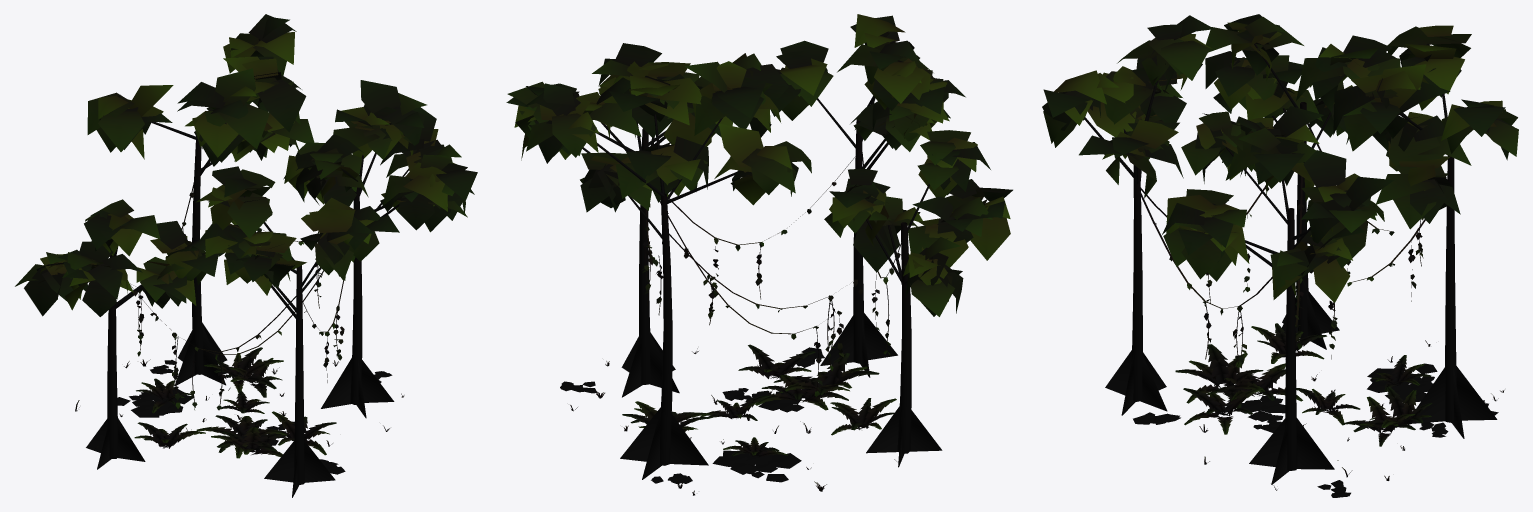
File: patch_vine_hall.glb
3 renders of one model, left to right at view 1: azimuth 30°, elevation 25°; view 2: azimuth 150°, elevation 25°; view 3: azimuth 270°, elevation 25°, orthographic. The views are drawn at different scales.
Parts seen in each view (by area): view 1: patch_vine_hall; view 2: patch_vine_hall; view 3: patch_vine_hall.
Boxes of the visible parts, left/top/right/bottom form: patch_vine_hall: left=15, top=14, right=477, bottom=497; patch_vine_hall: left=506, top=14, right=1012, bottom=495; patch_vine_hall: left=1042, top=14, right=1518, bottom=497.
Bounding box in the file's own units: 16.07 × 12.13 × 14.12.
Materials: 1 (1 with a texture image).
